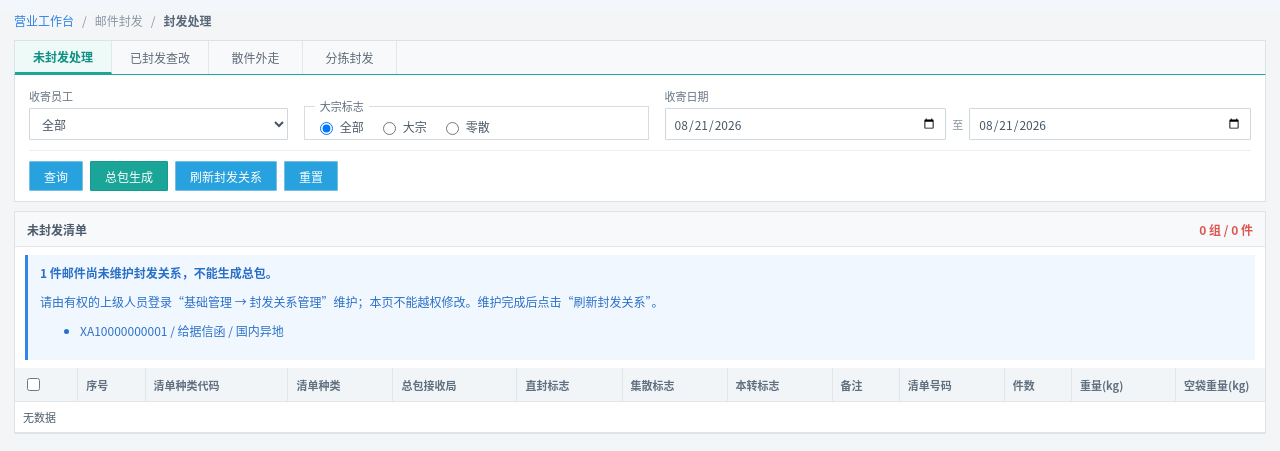
Test: MailSealingWorkspace › keeps relation maintenance out of the outlet page and refreshes an upper-level change
Expected: the element "未维护封发关系" shows "1 件邮件尚未维护封发关系", [25,255,1255,360]
Expected: the element "未维护封发关系" shows "基础管理 → 封发关系管理", [40,293,663,310]
Click the button "刷新封发关系": click(226, 176) [175,161,277,191]
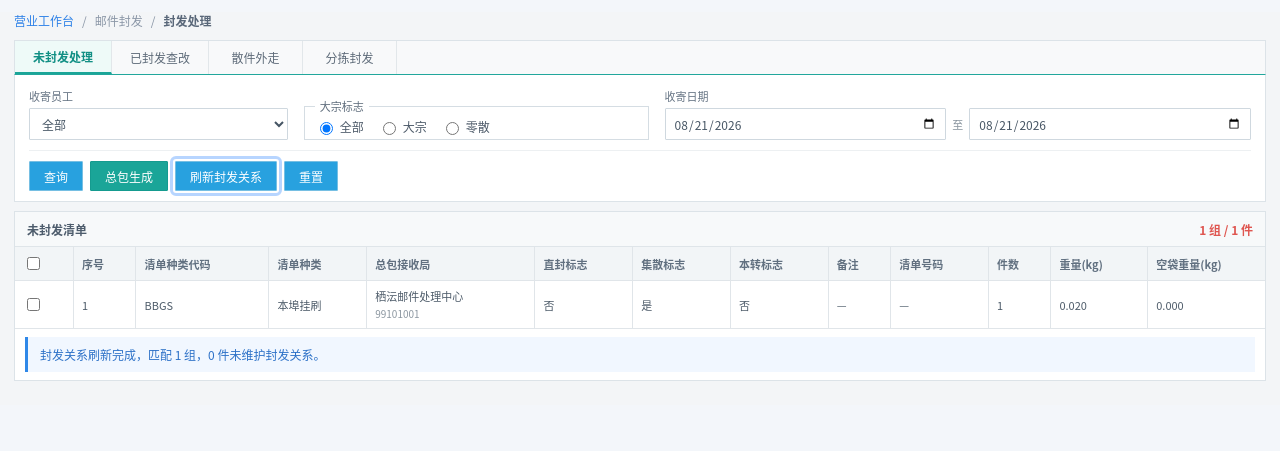
Expected: the checkbox named "采集清单 本埠挂刷" is shown, [27,298,40,311]
